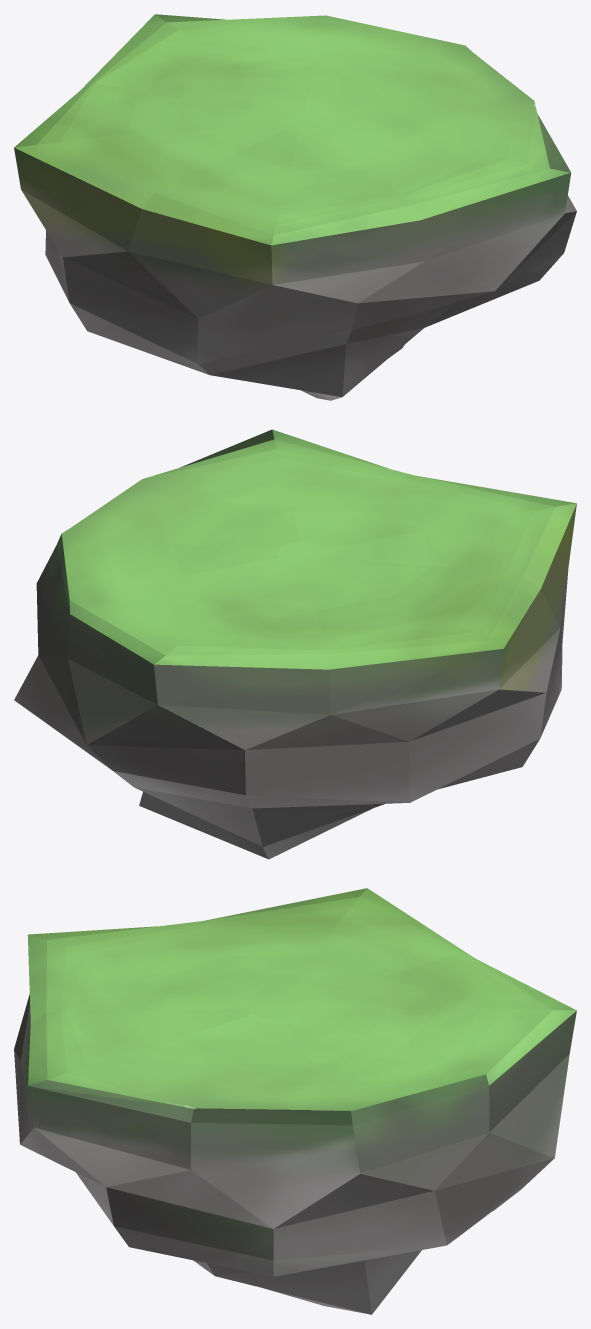
Rendered from Island1.fbx.
The picture shows the model from 3 angles, top to bottom: view 1: azimuth 30°, elevation 25°; view 2: azimuth 150°, elevation 25°; view 3: azimuth 270°, elevation 25°; orthographic projection. The views are drawn at different scales.
Parts seen in each view (by area): view 1: Icosphere; view 2: Icosphere; view 3: Icosphere.
Boxes of the visible parts, x1=… form: Icosphere: x1=14, y1=14, x2=576, y2=400; Icosphere: x1=14, y1=429, x2=576, y2=859; Icosphere: x1=14, y1=888, x2=576, y2=1314.
Bounding box in the file's own units: 928 × 490 × 928.
1 material, 1 textured.
